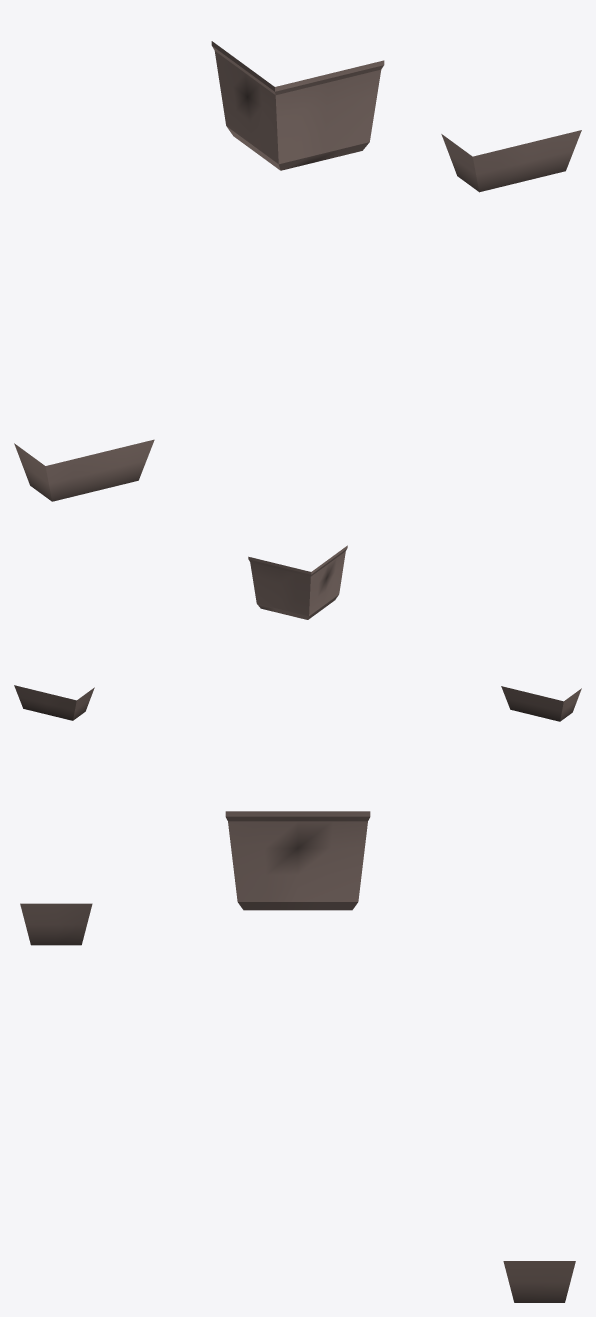
The model's file is pithead_rust.glb.
3 views of the same model, one above another, from view 1: azimuth 30°, elevation 25°; view 2: azimuth 150°, elevation 25°; view 3: azimuth 270°, elevation 25° (orthographic). The views are drawn at different scales.
Visible parts, largest first — view 1: rust; view 2: rust; view 3: rust.
Part boxes in pixels (x1,y1,x2,y2): rust: (14, 41, 581, 501); rust: (14, 545, 581, 721); rust: (20, 811, 575, 1302).
Size of the model in its own units: 16.4 by 5.83 by 9.2.
